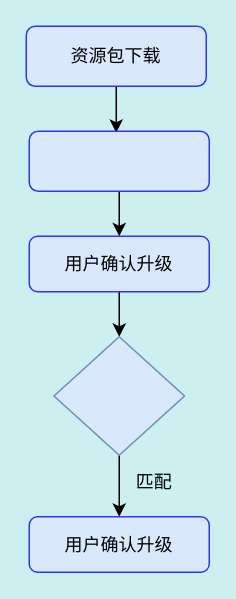
Some shapes in this 236 by 599 pixel diagram are drawn without their labels. Each missing label, with the centre of its shape:
版本是否 匹配: the point at 118,395
资源包解压: the point at 118,160
